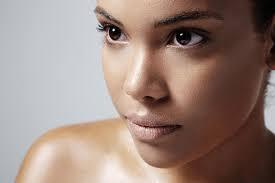Normal-Skin: (72, 23, 275, 151)
